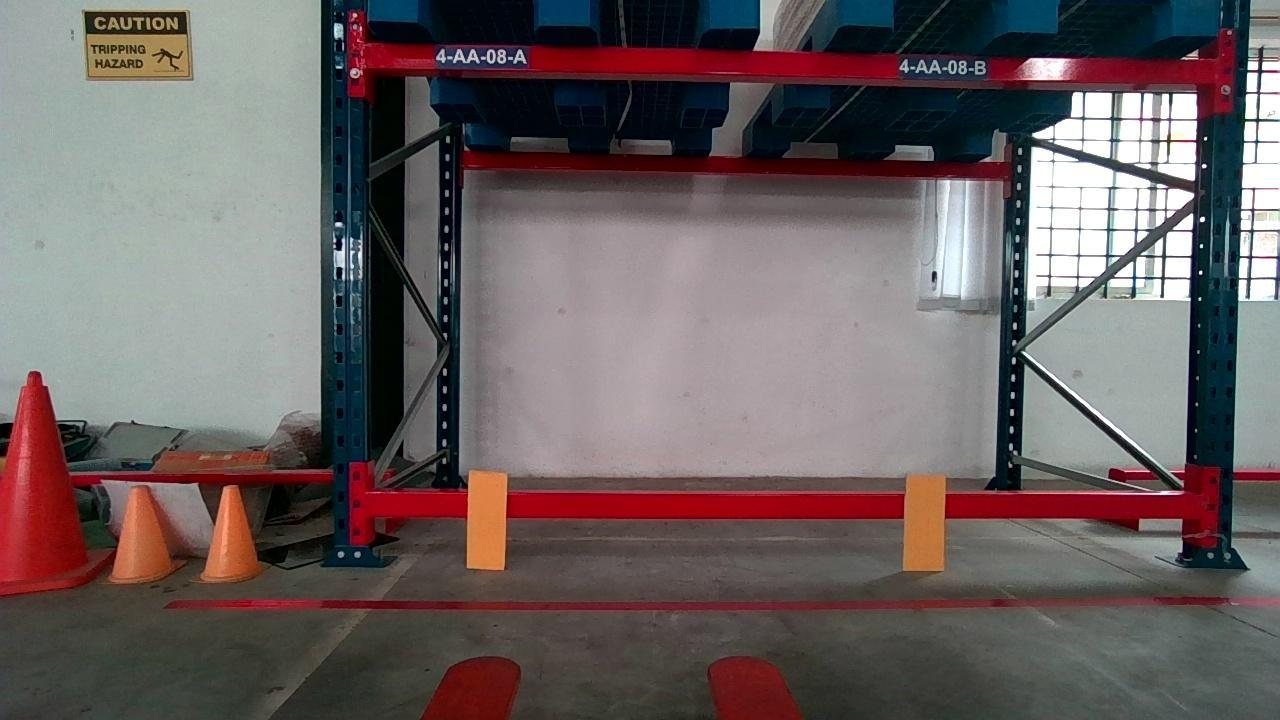h_rack: (362, 42, 1223, 86), (362, 490, 1201, 518)
orange_strip: (902, 475, 945, 570), (469, 472, 507, 568)
red_line: (167, 590, 1280, 608)
